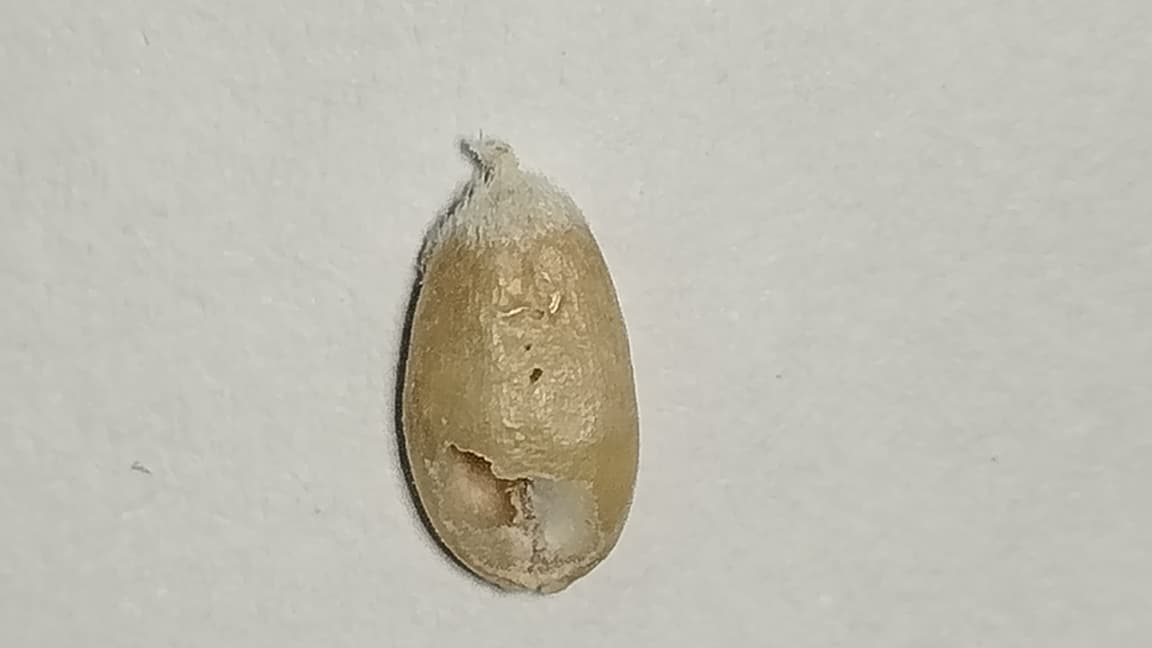damage: (397, 176, 639, 593)
insectdamage: (413, 430, 619, 595)
